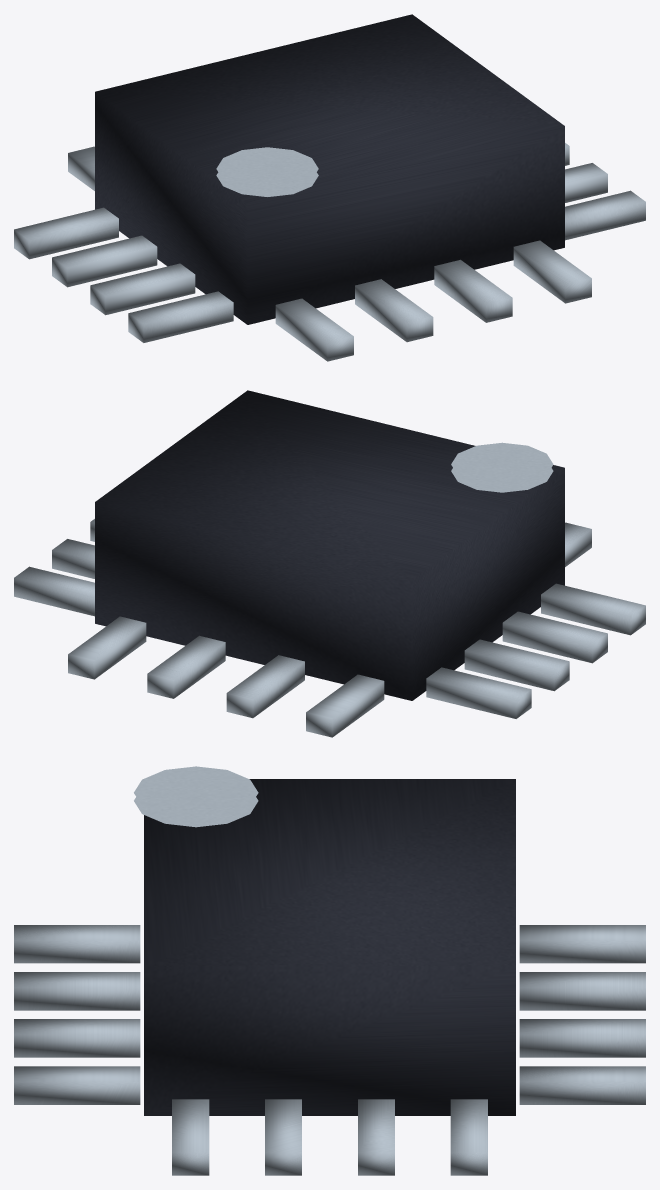
3 views of the same model, one above another, from view 1: azimuth 30°, elevation 25°; view 2: azimuth 150°, elevation 25°; view 3: azimuth 270°, elevation 25° (orthographic). The views are drawn at different scales.
Parts seen in each view (by area): view 1: L104_D2_chip_0__PSMAT__chip, L104_D2_silver_1__PSMAT__silver; view 2: L104_D2_chip_0__PSMAT__chip, L104_D2_silver_1__PSMAT__silver; view 3: L104_D2_chip_0__PSMAT__chip, L104_D2_silver_1__PSMAT__silver.
Part boxes in pixels (x1,y1,x2,y2): L104_D2_chip_0__PSMAT__chip: [95, 14, 564, 324]; L104_D2_silver_1__PSMAT__silver: [14, 143, 645, 361]; L104_D2_chip_0__PSMAT__chip: [95, 390, 564, 700]; L104_D2_silver_1__PSMAT__silver: [14, 442, 645, 737]; L104_D2_chip_0__PSMAT__chip: [144, 779, 515, 1115]; L104_D2_silver_1__PSMAT__silver: [14, 766, 645, 1175].
Bounding box in the file's own units: 0.00475 × 0.00122 × 0.00425.
2 materials, 2 textured.
